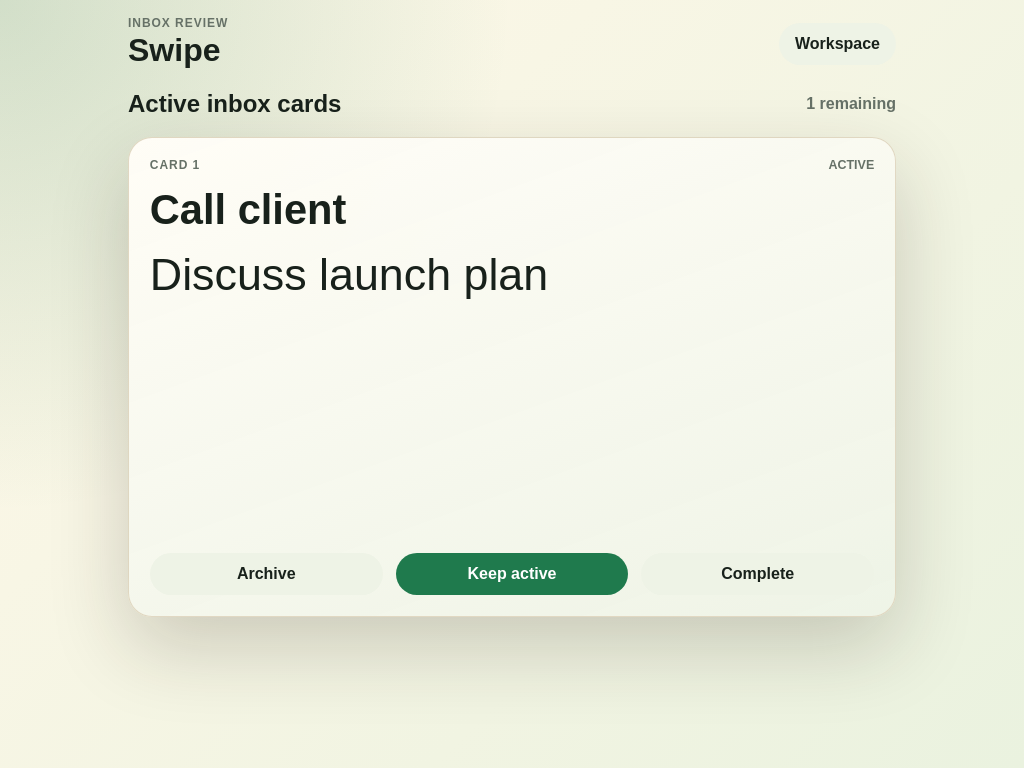
Test: SwipeApp › archives the current card without a note on left action
Click the button "Archive": (266, 574) 150,553 -> 383,595
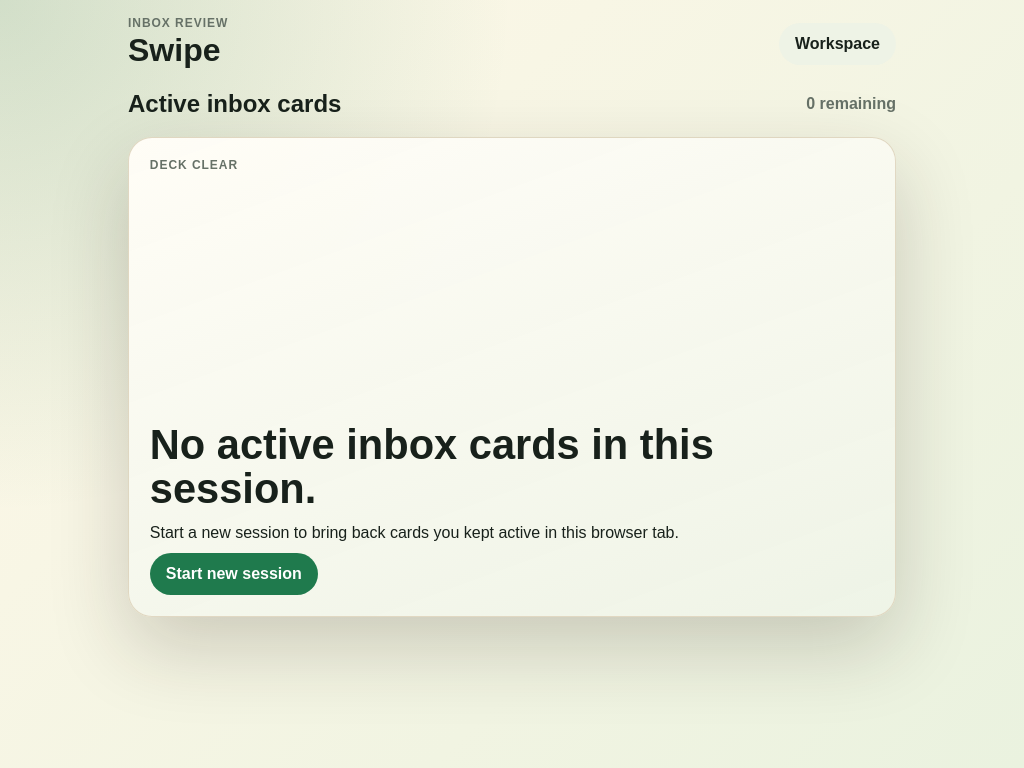
Now the heading "Call client" is gone
